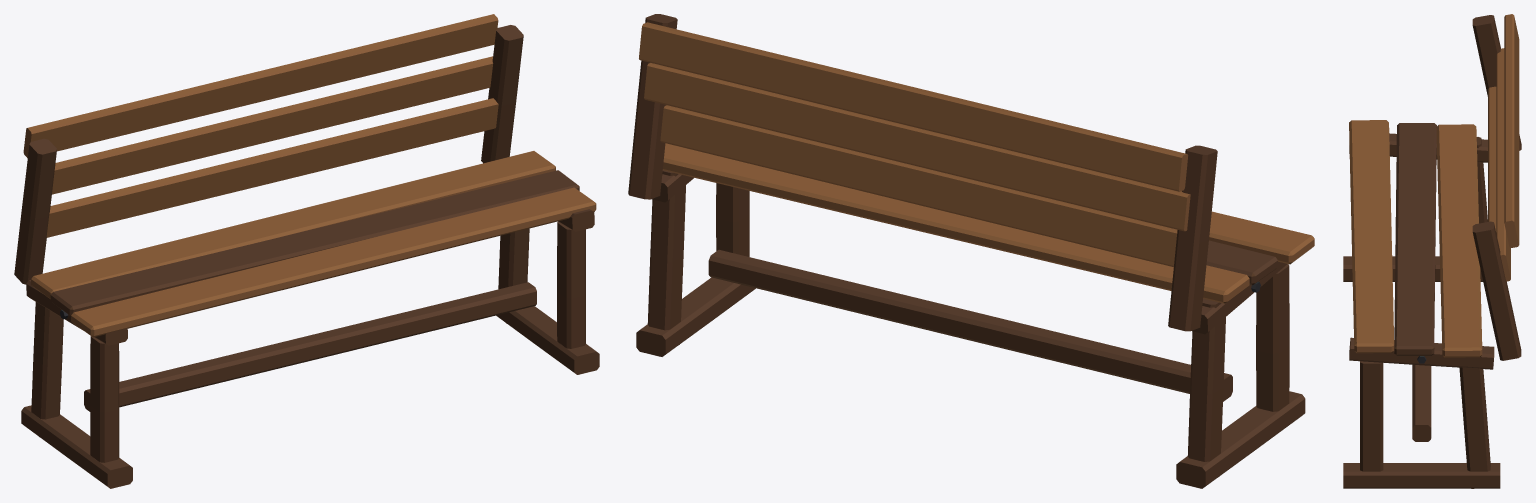
File: prop_bench_wood_a.glb
The picture shows the model from 3 angles, left to right: view 1: azimuth 30°, elevation 25°; view 2: azimuth 150°, elevation 25°; view 3: azimuth 270°, elevation 25°; orthographic projection. The views are drawn at different scales.
Visible parts, largest first — view 1: bench_back_slat_0, bench_back_stile_0; view 2: bench_back_slat_0, bench_back_stile_0; view 3: bench_back_stile_0, bench_back_slat_0.
Boxes of the visible parts, x1=… form: bench_back_slat_0: x1=23, y1=14, x2=596, y2=337; bench_back_stile_0: x1=14, y1=25, x2=599, y2=488; bench_back_slat_0: x1=639, y1=22, x2=1314, y2=303; bench_back_stile_0: x1=628, y1=14, x2=1305, y2=488; bench_back_stile_0: x1=1343, y1=15, x2=1521, y2=488; bench_back_slat_0: x1=1349, y1=14, x2=1519, y2=357.
Bounding box in the file's own units: 1.73 × 0.9307 × 0.568.
